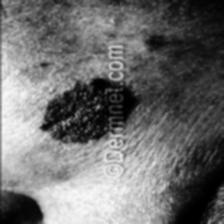Potentially Malignant Skin Tumors: (40, 80, 134, 144)
